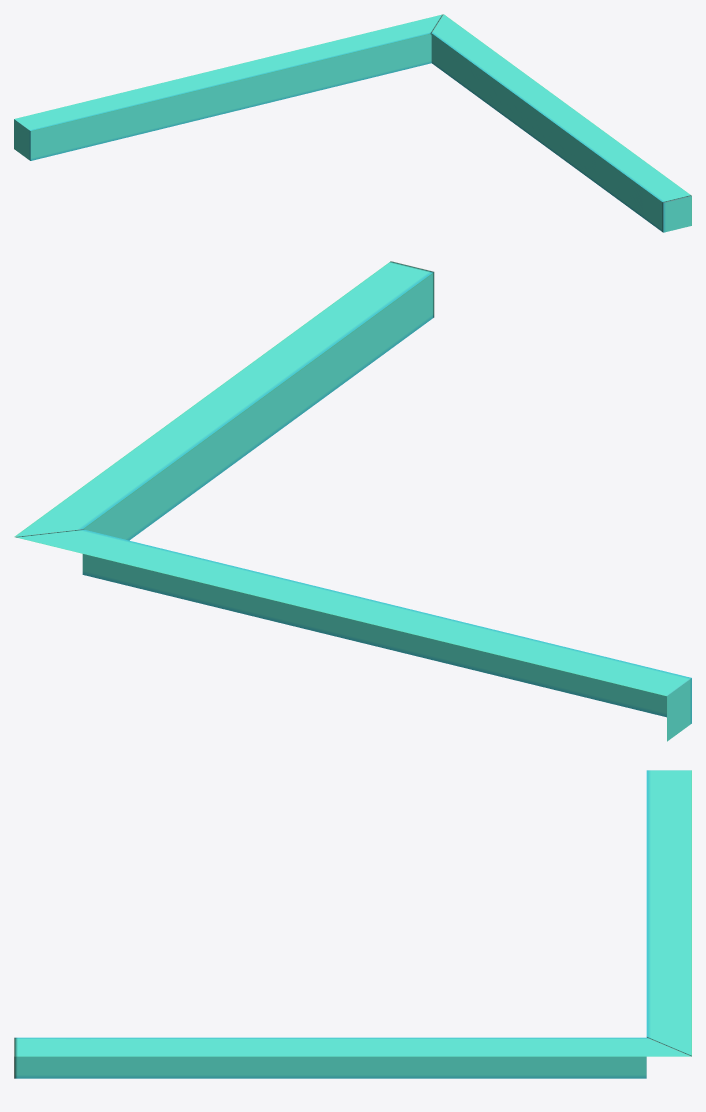
Rendered from MK_Floor_Trim_E_Corner_In.fbx.
3 renders of one model, top to bottom at view 1: azimuth 30°, elevation 25°; view 2: azimuth 150°, elevation 25°; view 3: azimuth 270°, elevation 25°, orthographic. The views are drawn at different scales.
Parts seen in each view (by area): view 1: Floor_Trim_E_Corner_In; view 2: Floor_Trim_E_Corner_In; view 3: Floor_Trim_E_Corner_In.
Boxes of the visible parts, x1=… form: Floor_Trim_E_Corner_In: x1=14, y1=14, x2=691, y2=232; Floor_Trim_E_Corner_In: x1=14, y1=261, x2=691, y2=741; Floor_Trim_E_Corner_In: x1=14, y1=770, x2=691, y2=1078.
Bounding box in the file's own units: 169 × 11.25 × 169.
1 material, 1 textured.
